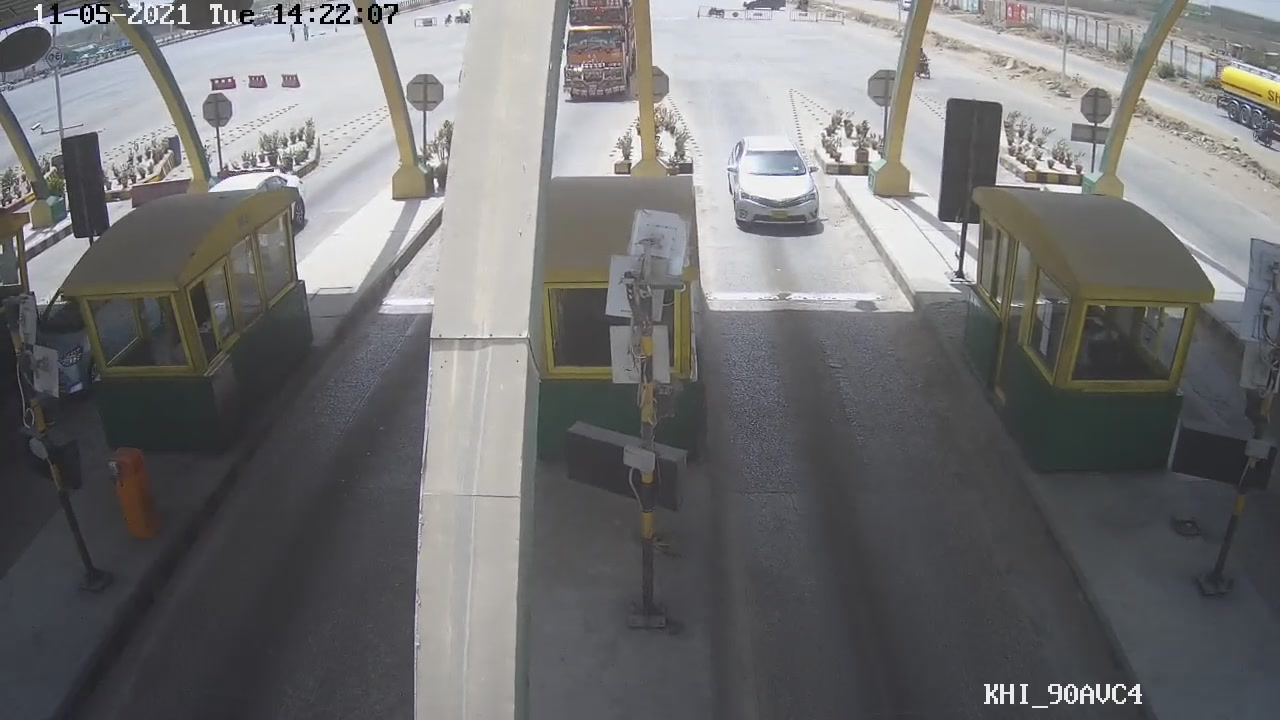F1: (717, 129, 844, 243)
